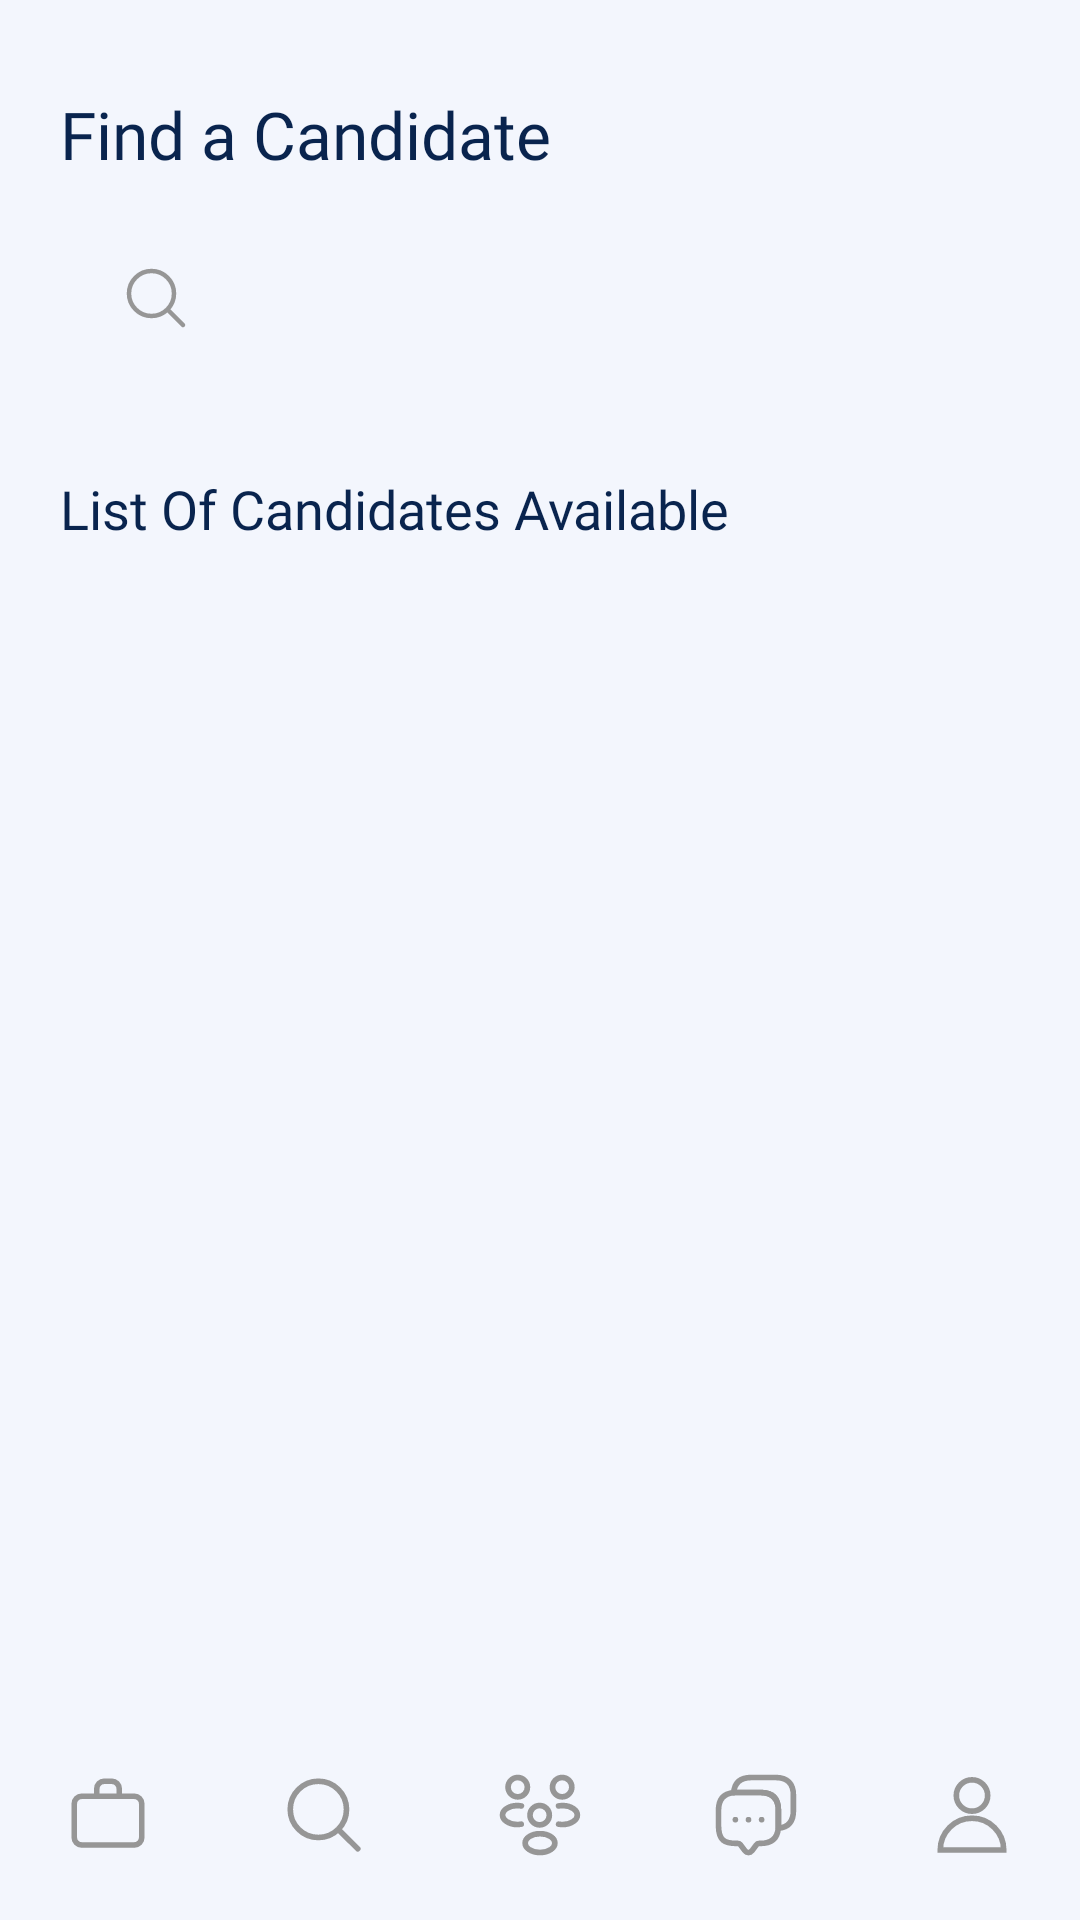

Where icons sit on this 1080*1920 app screen, as Rect(x1, y1, x2, y2):
messages: Rect(715, 1774, 797, 1856)
people: Rect(499, 1774, 580, 1856)
person male: Rect(937, 1777, 1007, 1853)
work: Rect(71, 1778, 145, 1848)
